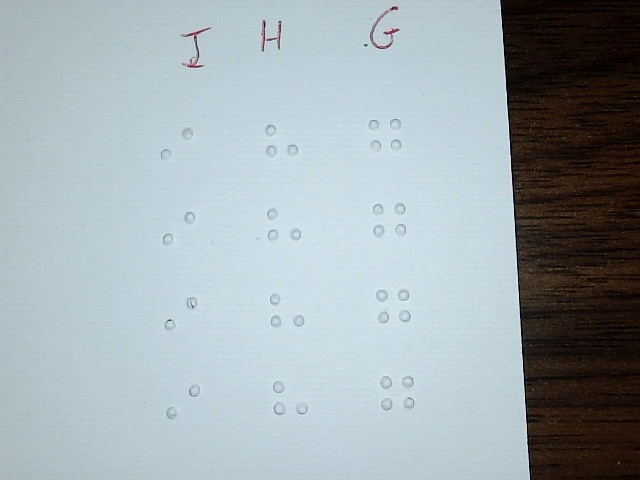G: (366, 106, 404, 175), (369, 190, 407, 259), (374, 276, 412, 345), (378, 364, 416, 433)
H: (263, 112, 301, 181), (264, 195, 302, 264), (268, 280, 306, 349), (271, 369, 309, 438)
I: (158, 115, 196, 184), (161, 199, 199, 268), (164, 374, 202, 443)
